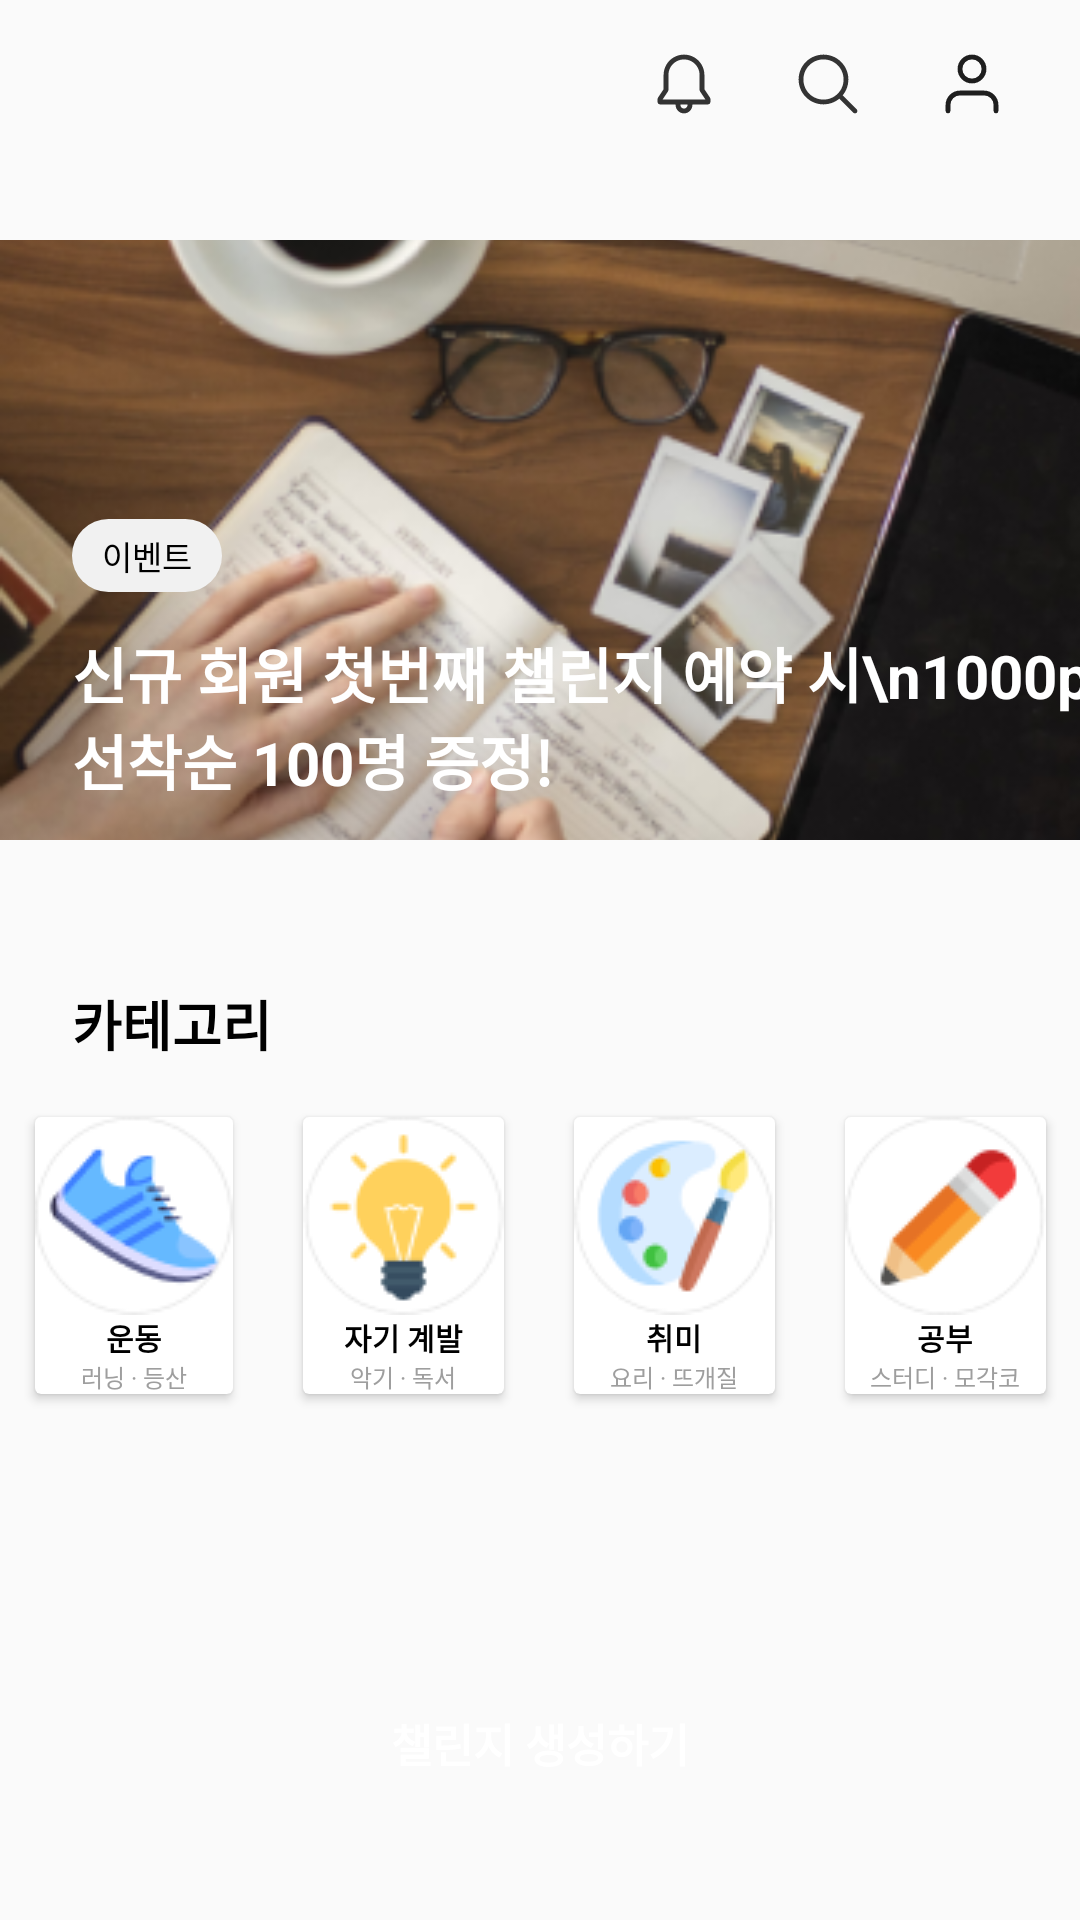

Icon bounding boxes for this 1080px x 1920px phone screenshot, format (x1, y1, x2, y2):
alarm: (657, 54, 711, 114)
search: (798, 54, 858, 114)
